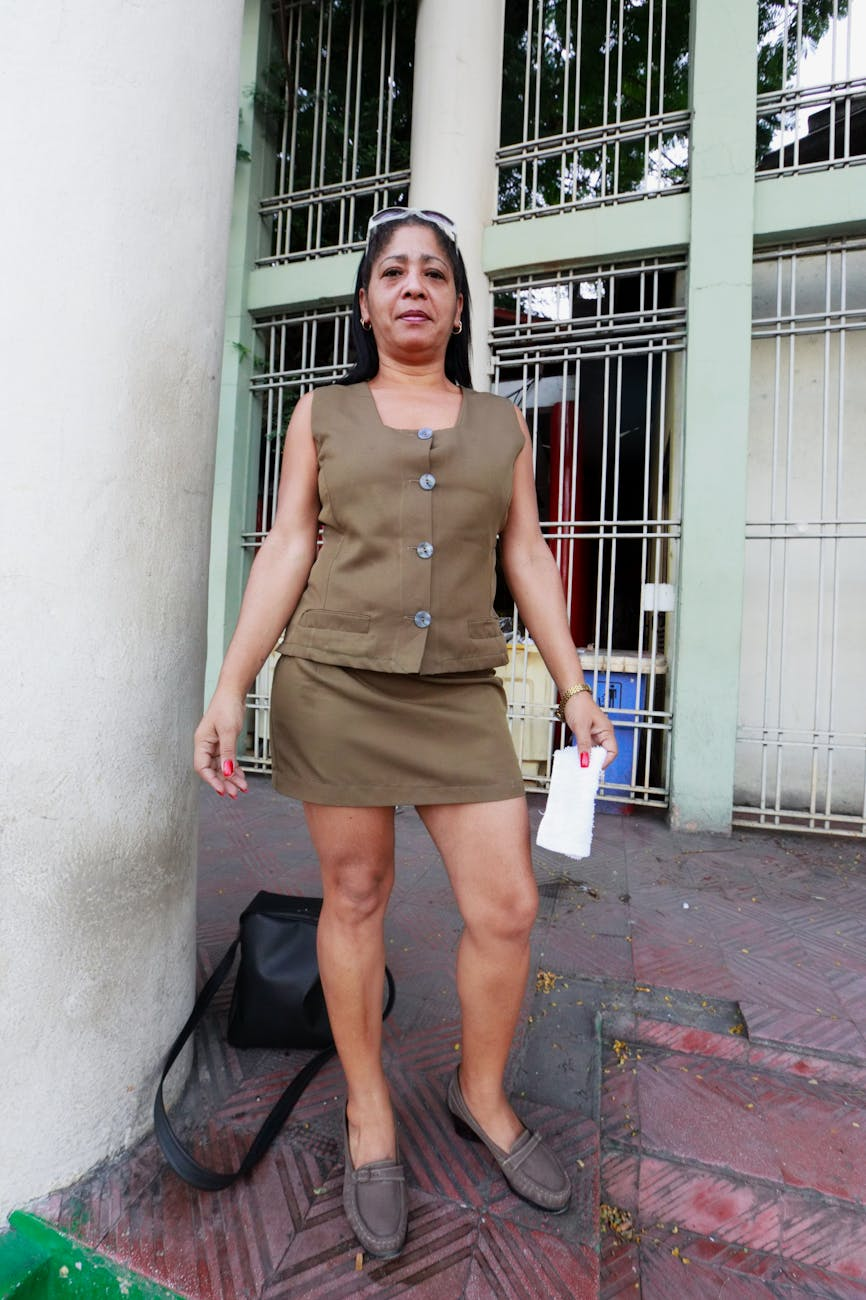short_medium_skirt: (264, 659, 536, 813)
sleeveless_top: (286, 363, 527, 679)
